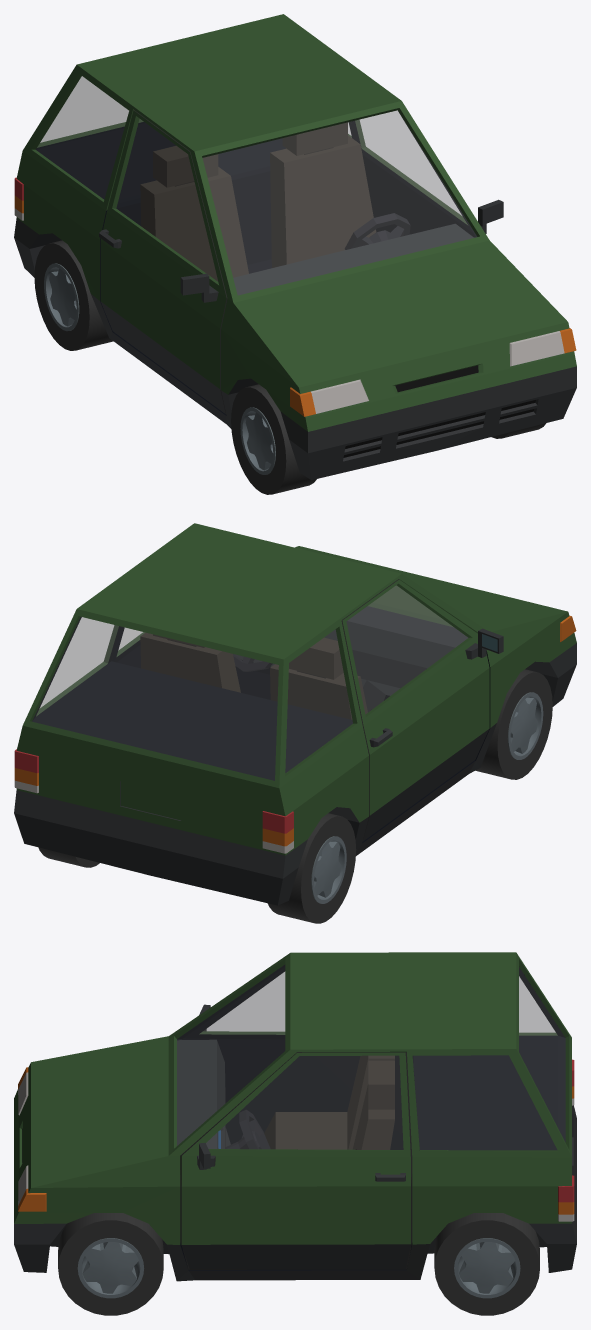
The model's file is car.glb.
3 renders of one model, top to bottom at view 1: azimuth 30°, elevation 25°; view 2: azimuth 150°, elevation 25°; view 3: azimuth 270°, elevation 25°, orthographic. The views are drawn at different scales.
Visible parts, largest first — view 1: Circle.169, windows, interior, Circle.167, win door r.001, wheel fr, wheel br, Circle.168, win door l.001; view 2: Circle.169, windows, Circle.167, interior, win door r.001, wheel br, wheel fr, Circle.168; view 3: Circle.169, Circle.168, windows, win door l.001, interior, Circle.167, wheel bl, wheel fl, win door r.001.
Boxes of the visible parts, <box> form: Circle.169: <box>14,14,576,480</box>; windows: <box>36,76,476,294</box>; interior: <box>140,122,473,295</box>; Circle.167: <box>99,110,227,414</box>; win door r.001: <box>116,119,217,280</box>; wheel fr: <box>231,384,316,494</box>; wheel br: <box>34,240,113,350</box>; Circle.168: <box>351,111,503,237</box>; win door l.001: <box>355,111,467,224</box>; Circle.169: <box>14,523,576,905</box>; windows: <box>32,586,452,780</box>; Circle.167: <box>341,579,503,841</box>; interior: <box>140,606,468,719</box>; win door r.001: <box>346,585,467,713</box>; wheel br: <box>268,813,356,923</box>; wheel fr: <box>475,669,552,779</box>; Circle.168: <box>111,626,144,668</box>; Circle.169: <box>14,952,576,1281</box>; Circle.168: <box>180,1052,412,1269</box>; windows: <box>177,965,565,1149</box>; win door l.001: <box>206,1056,403,1149</box>; interior: <box>177,1039,394,1149</box>; Circle.167: <box>182,967,403,1149</box>; wheel bl: <box>434,1213,539,1315</box>; wheel fl: <box>58,1213,163,1315</box>; win door r.001: <box>200,972,284,1034</box>.
Size of the model in its own units: 2.18 by 1.71 by 3.46.
2 materials, 2 textured.
